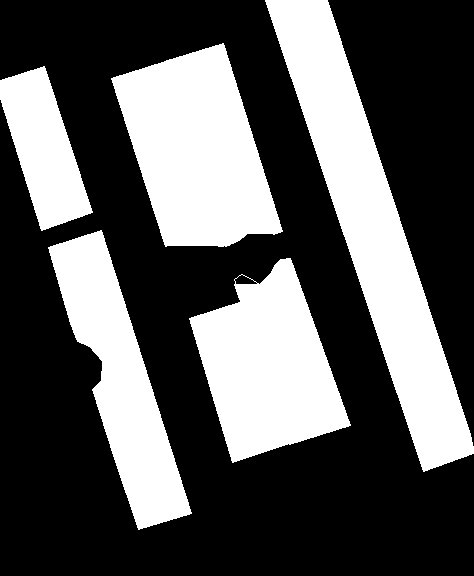parkingspot: (265, 0, 474, 471), (48, 230, 191, 529), (164, 43, 282, 246), (111, 60, 229, 246), (234, 258, 350, 444), (189, 300, 292, 462), (0, 66, 92, 230)
